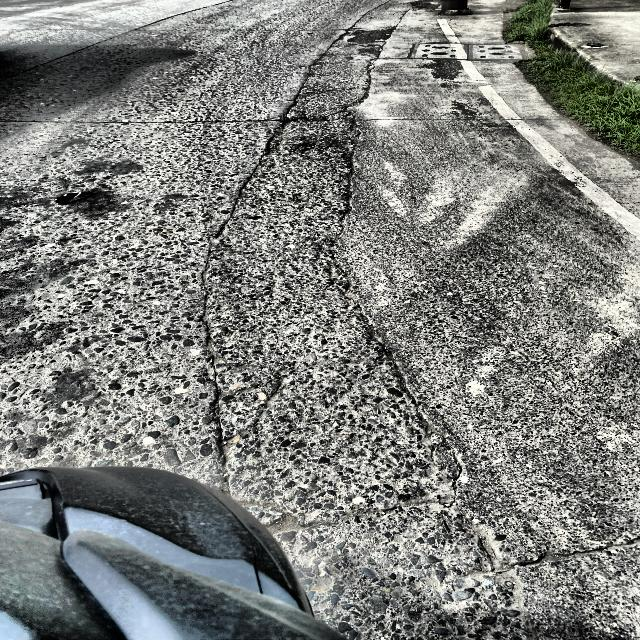major_scaling: (2, 120, 465, 484)
